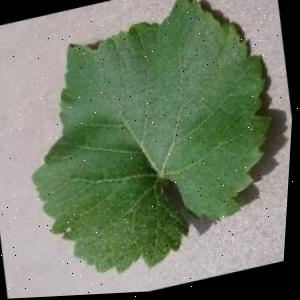Folha: (1, 0, 300, 293)
